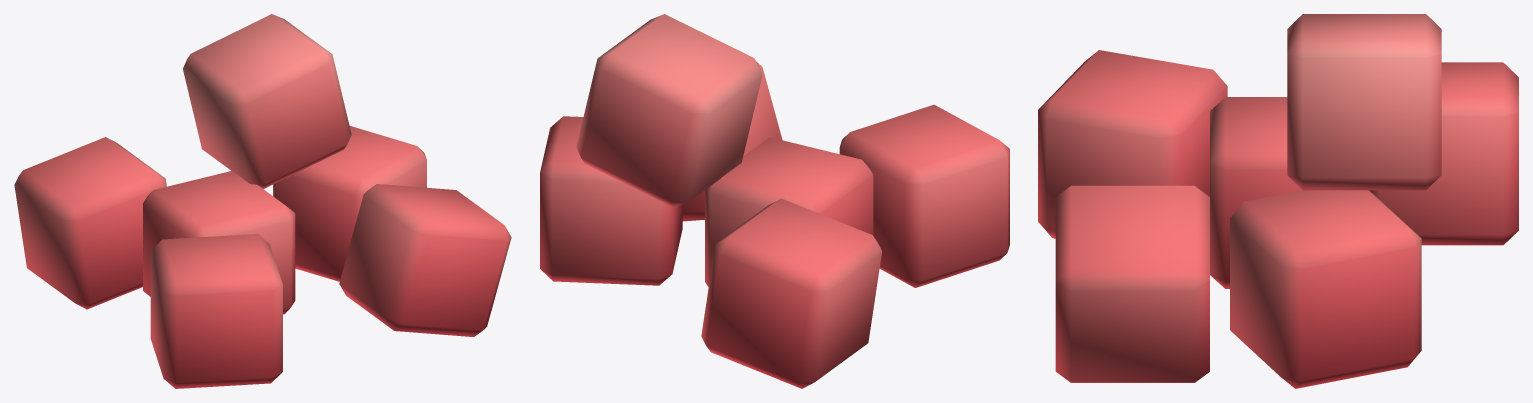
File: kay-food_ingredient_steak_pieces.glb
The picture shows the model from 3 angles, left to right: view 1: azimuth 30°, elevation 25°; view 2: azimuth 150°, elevation 25°; view 3: azimuth 270°, elevation 25°; orthographic projection. The views are drawn at different scales.
Visible parts, largest first — view 1: food_ingredient_steak_pieces; view 2: food_ingredient_steak_pieces; view 3: food_ingredient_steak_pieces.
Boxes of the visible parts, bbox=[...] form: food_ingredient_steak_pieces: bbox=[14, 14, 511, 388]; food_ingredient_steak_pieces: bbox=[540, 14, 1009, 388]; food_ingredient_steak_pieces: bbox=[1038, 14, 1518, 388].
Size of the model in its own units: 0.22 by 0.1478 by 0.2118.
1 material, 1 textured.
